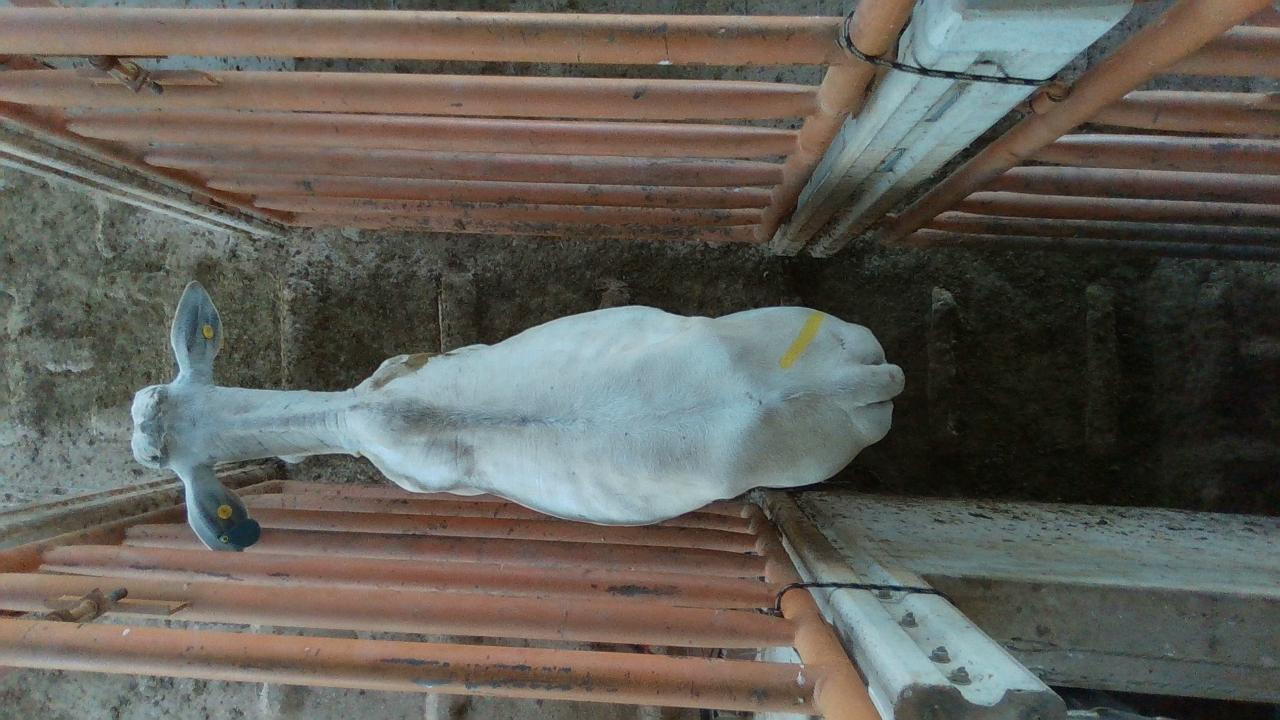cattle: (128, 278, 906, 552)
